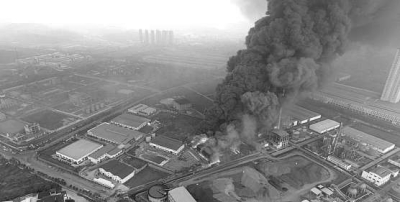smoke: (213, 6, 374, 104)
